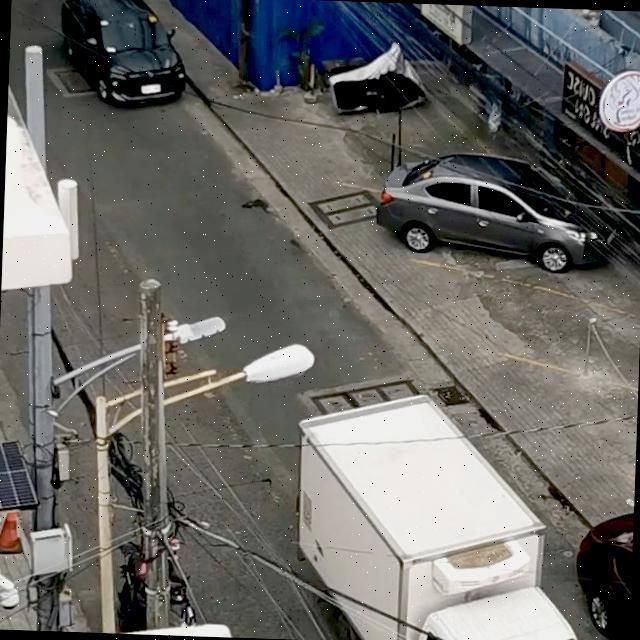Truck: (305, 392, 602, 640)
